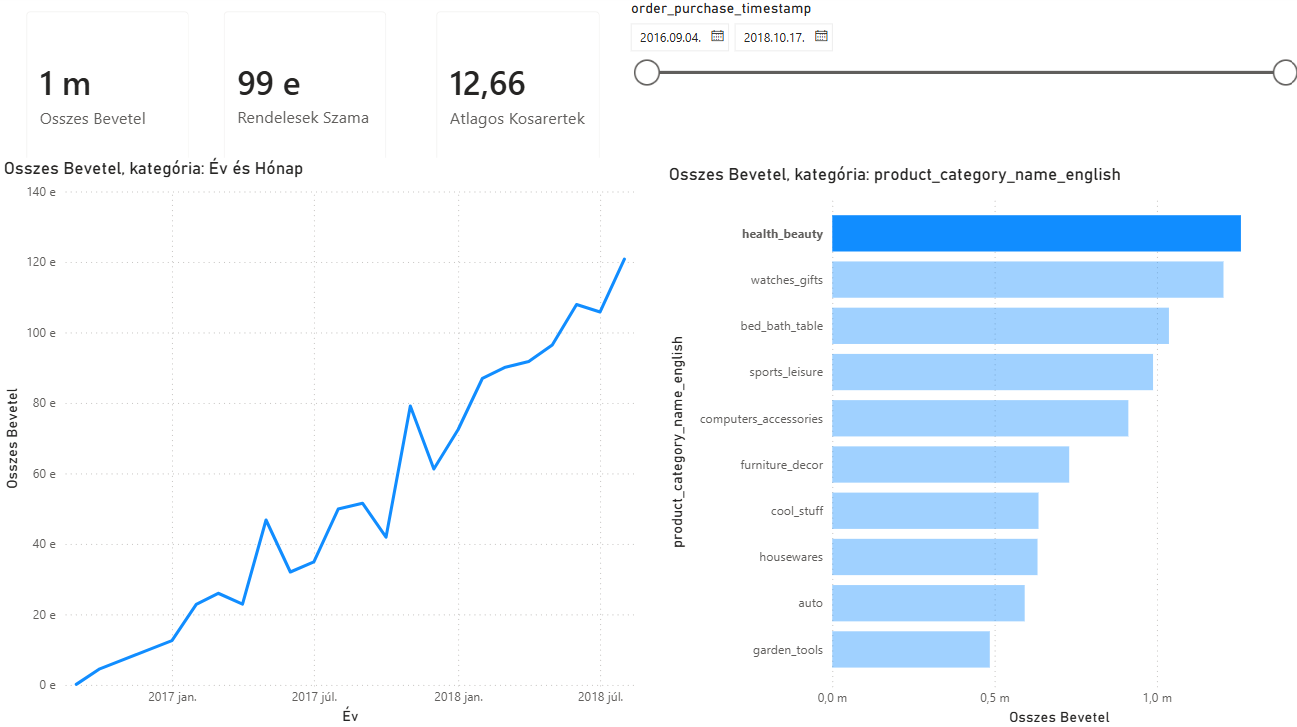

This screenshot's page, from the dashboard's own definition file:
{"tool":"powerbi","page":{"name":"1. oldal","canvas":[1280,720],"ordinal":0},"visuals":[{"type":"cardVisual","fields":{"Data":["olist_order_items_dataset.Osszes Bevetel"]},"box":[9.8,0,193.2,194.4],"z":0},{"type":"cardVisual","fields":{"Data":["olist_order_items_dataset.Rendelesek Szama"]},"box":[203.4,0,193.4,193.4],"z":1000},{"type":"cardVisual","fields":{"Data":["olist_order_items_dataset.Atlagos Kosarertek"]},"box":[410.7,0,194.2,194.2],"z":2000},{"type":"lineChart","fields":{"Category":["olist_orders_dataset.order_purchase_timestamp.Változat.Dátumhierarchia.Év","olist_orders_dataset.order_purchase_timestamp.Változat.Dátumhierarchia.Hónap"],"Y":["olist_order_items_dataset.Osszes Bevetel"]},"box":[0,160.7,640,559.7],"z":3000},{"type":"clusteredBarChart","fields":{"Category":["product_category_name_translation.product_category_name_english"],"Y":["olist_order_items_dataset.Osszes Bevetel"]},"box":[650.5,165.9,629.5,554.4],"z":4000},{"type":"slicer","fields":{"Values":["olist_orders_dataset.order_purchase_timestamp"]},"box":[605.5,0,674.5,165.4],"z":4001}]}

Visuals, with their boxes in screenshot pixels (x1, y1, x2, y2), scaled from the page's 1280x720 canvas onto the 1297x727 screenshot:
cardVisual - olist_order_items_dataset.Osszes Bevetel: 10/0/206/196
cardVisual - olist_order_items_dataset.Rendelesek Szama: 206/0/402/195
cardVisual - olist_order_items_dataset.Atlagos Kosarertek: 416/0/613/196
lineChart - olist_orders_dataset.order_purchase_timestamp.Változat.Dátumhierarchia.Év x olist_orders_dataset.order_purchase_timestamp.Változat.Dátumhierarchia.Hónap: 0/162/648/726
clusteredBarChart - product_category_name_translation.product_category_name_english x olist_order_items_dataset.Osszes Bevetel: 659/168/1296/726
slicer - olist_orders_dataset.order_purchase_timestamp: 614/0/1296/167
